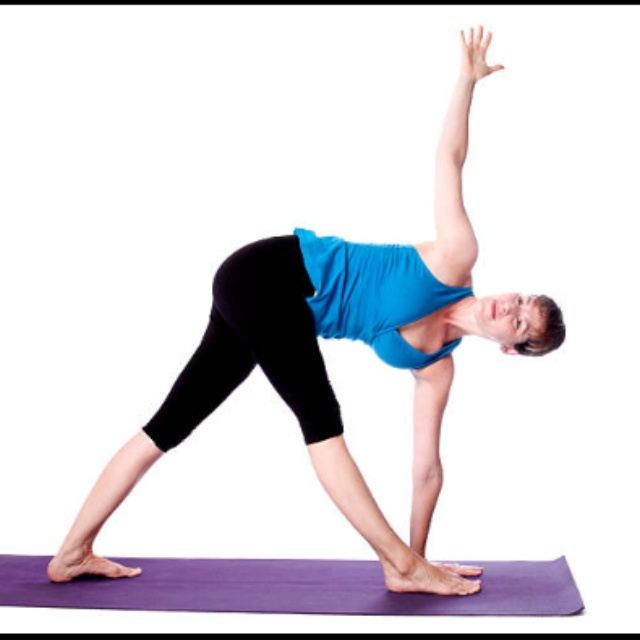Triangle_Pose: (34, 18, 569, 610)
